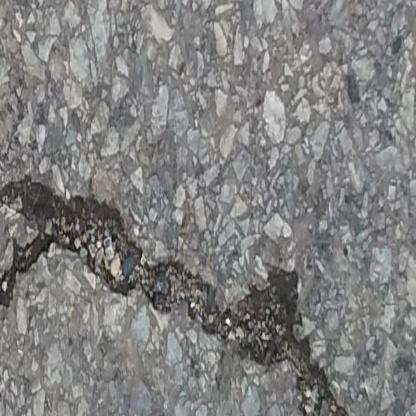Cracks: (0, 167, 372, 416)
